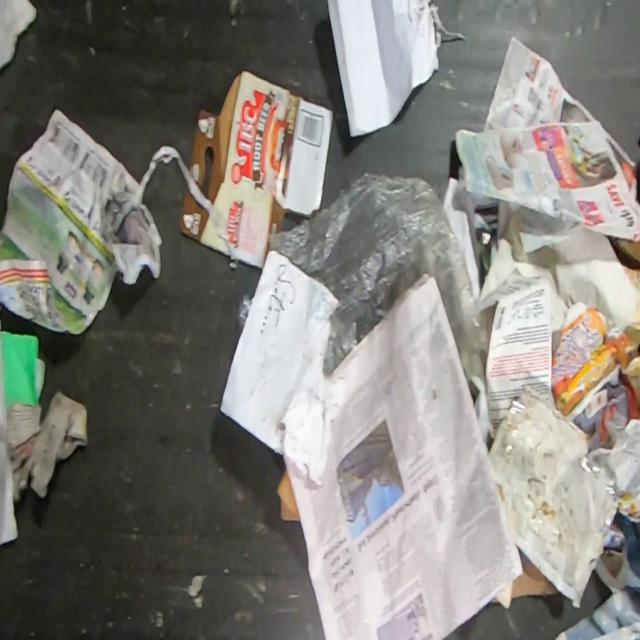cardboard: (188, 67, 334, 269), (178, 184, 230, 257), (510, 546, 563, 598), (274, 465, 302, 522)
soft_plastic: (270, 170, 490, 379), (236, 293, 254, 336)
